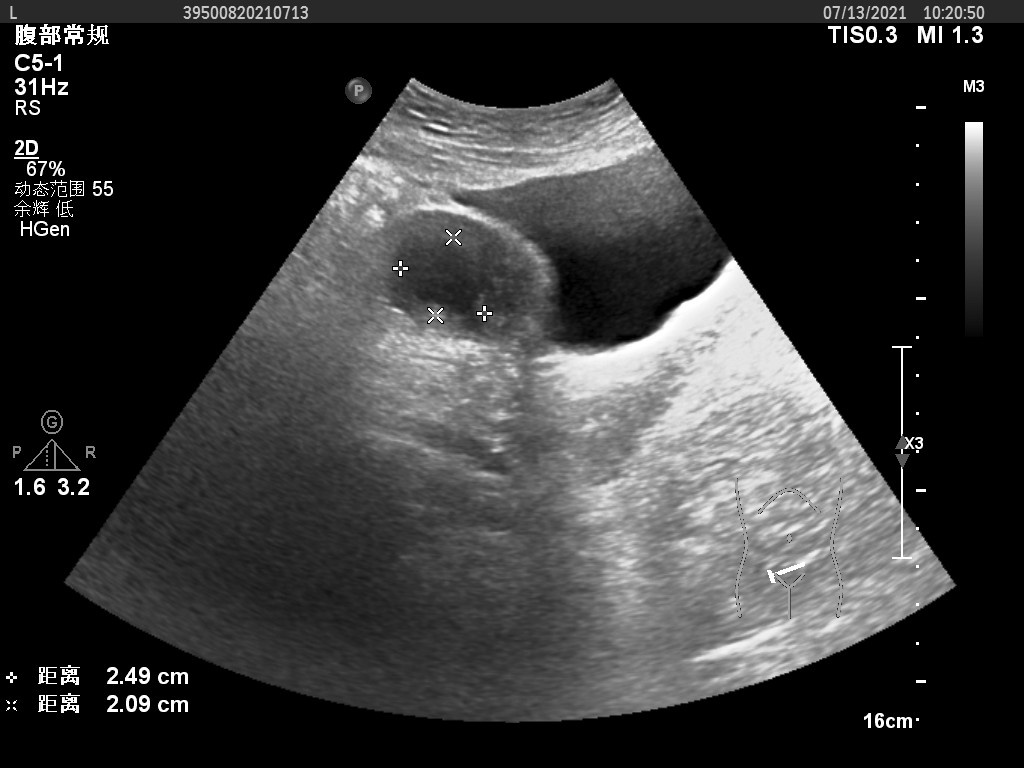肌瘤: (403, 241, 488, 319)
